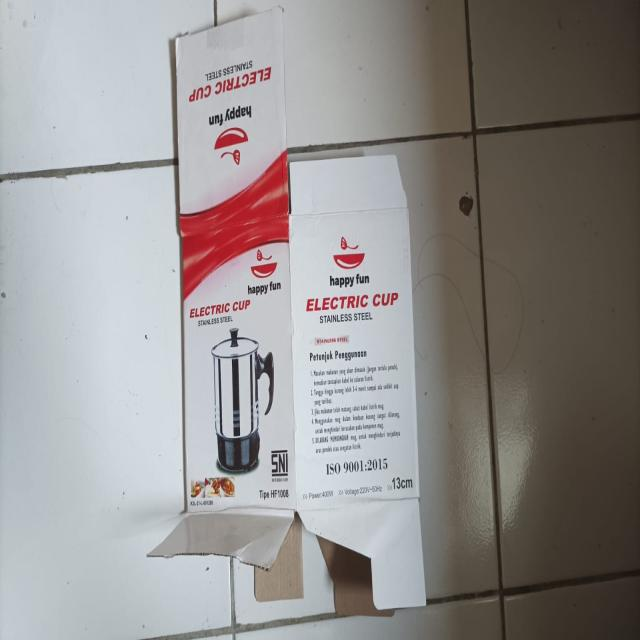Organik: (150, 9, 425, 614)
